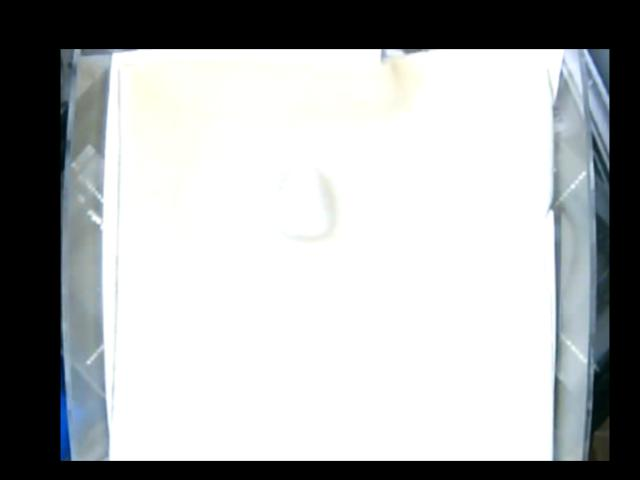Pebble: (271, 164, 330, 242)
